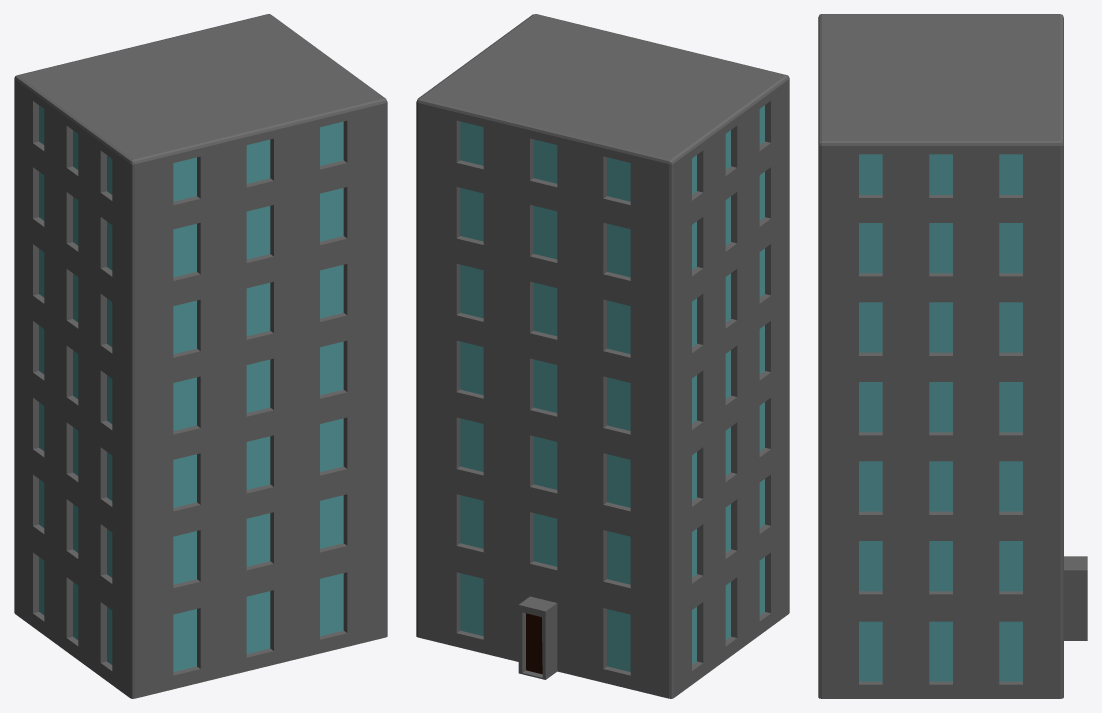
Rendered from skyscraper_gray.FBX.
The picture shows the model from 3 angles, left to right: view 1: azimuth 30°, elevation 25°; view 2: azimuth 150°, elevation 25°; view 3: azimuth 270°, elevation 25°; orthographic projection. The views are drawn at different scales.
Visible parts, largest first — view 1: Box001, Object001; view 2: Box001, Object001, Object002; view 3: Box001, Object001.
Part boxes in pixels (x1,y1,x2,y2): Box001: (14, 14, 387, 698); Object001: (39, 105, 343, 671); Box001: (416, 14, 789, 698); Object001: (460, 105, 764, 671); Object002: (526, 613, 542, 674); Box001: (818, 14, 1087, 698); Object001: (859, 154, 1022, 681).
Size of the model in its own units: 100 by 200 by 87.75.
